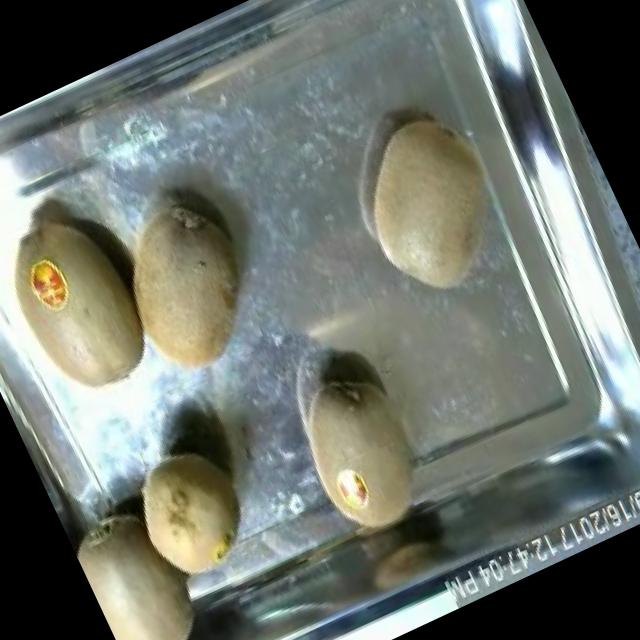Fruit: (322, 85, 542, 325), (94, 177, 288, 396), (0, 192, 182, 420), (273, 346, 457, 548), (108, 426, 275, 605), (63, 485, 228, 640)
